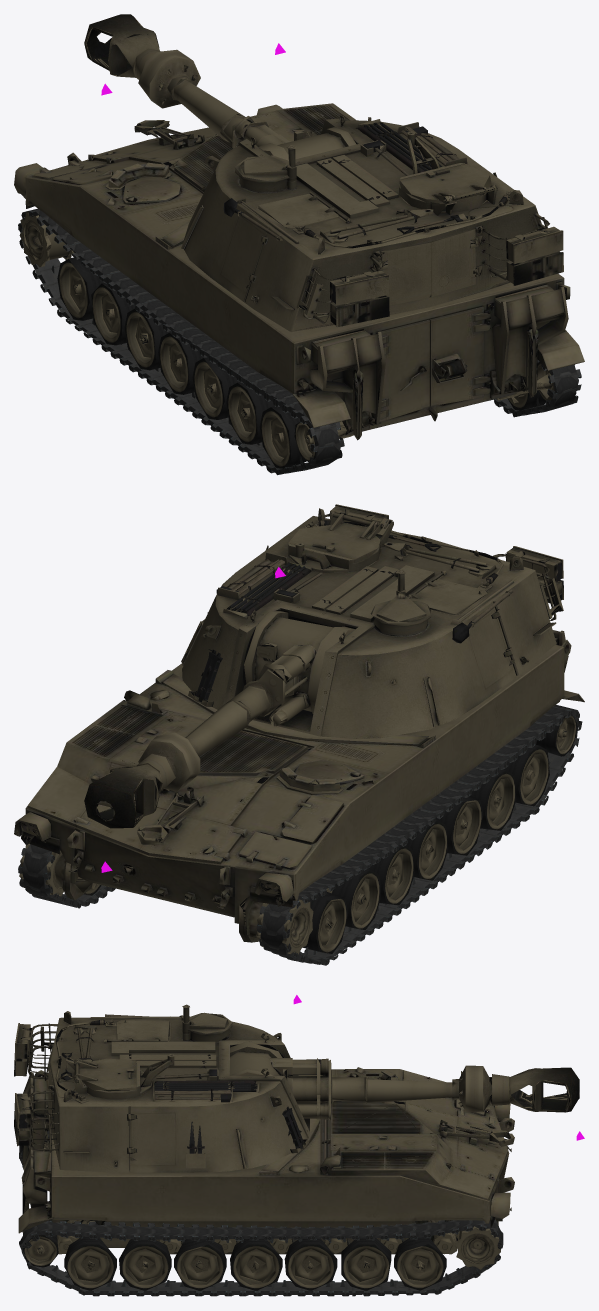
Rendered from arty.glb.
The picture shows the model from 3 angles, top to bottom: view 1: azimuth 30°, elevation 25°; view 2: azimuth 150°, elevation 25°; view 3: azimuth 270°, elevation 25°; orthographic projection. The views are drawn at different scales.
Visible parts, largest first — view 1: Body_2, Turret_2, Body_1, Body_3, Turret_1; view 2: Body_2, Turret_2, Turret_1, Body_1, Body_3; view 3: Body_2, Turret_2, Body_1, Body_3, Turret_1.
Boxes of the visible parts, x1,y1,x2,y2 form: Body_2: (14, 103, 584, 440); Turret_2: (181, 115, 563, 331); Body_1: (19, 212, 576, 468); Body_3: (18, 208, 581, 475); Turret_1: (84, 14, 356, 160); Body_2: (14, 630, 584, 942); Turret_2: (181, 504, 563, 738); Turret_1: (84, 611, 354, 828); Body_1: (19, 714, 577, 954); Body_3: (18, 705, 582, 965); Body_2: (18, 1067, 514, 1247); Turret_2: (14, 1004, 309, 1172); Body_1: (22, 1140, 500, 1290); Body_3: (19, 1130, 503, 1296); Turret_1: (230, 1041, 579, 1120).
Size of the model in its own units: 7.43 by 7.77 by 16.15.
6 materials, 5 textured.
